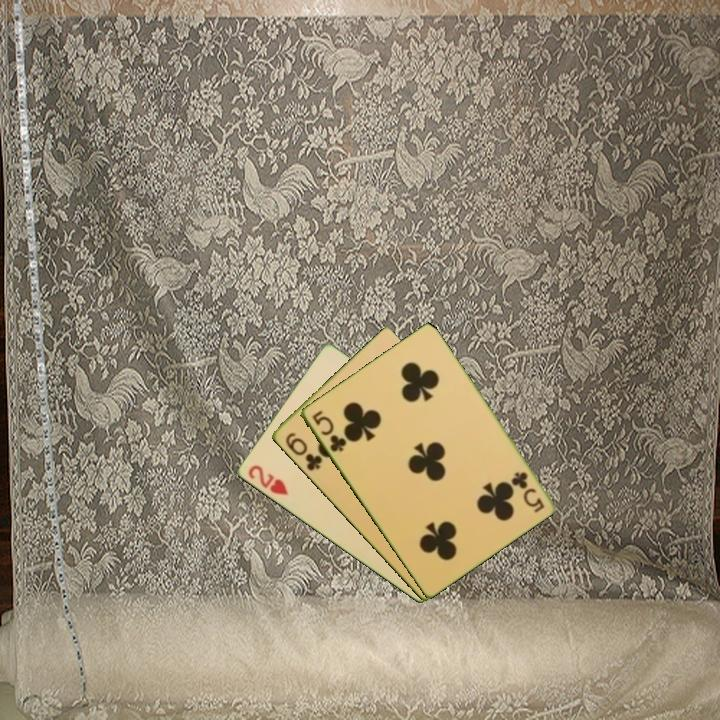2h: (244, 461, 291, 498)
5c: (308, 407, 349, 455), (508, 468, 547, 515)
6c: (281, 429, 325, 474)
